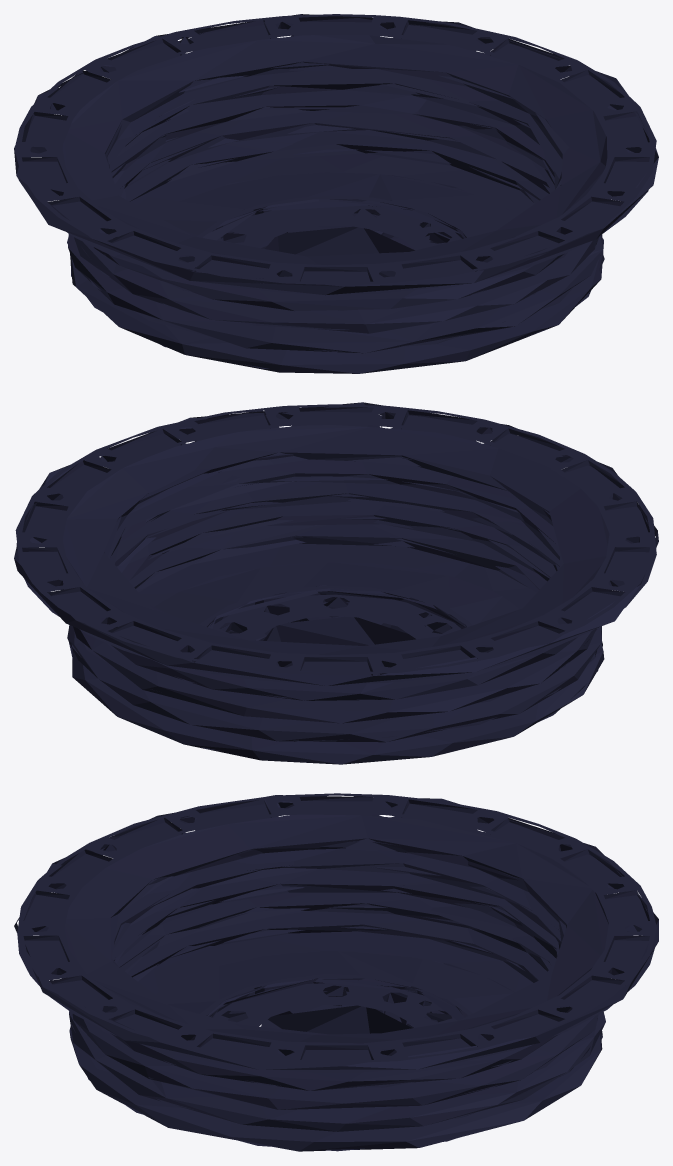
File: front_right_steer_119.dae
3 views of the same model, one above another, from view 1: azimuth 30°, elevation 25°; view 2: azimuth 150°, elevation 25°; view 3: azimuth 270°, elevation 25° (orthographic).
Visible parts, largest first — view 1: node; view 2: node; view 3: node.
Part boxes in pixels (<box>): node: <box>14,14,658,373</box>; node: <box>14,402,658,764</box>; node: <box>14,793,658,1151</box>.
Bounding box in the file's own units: 0.1998 × 0.1977 × 0.0484.
